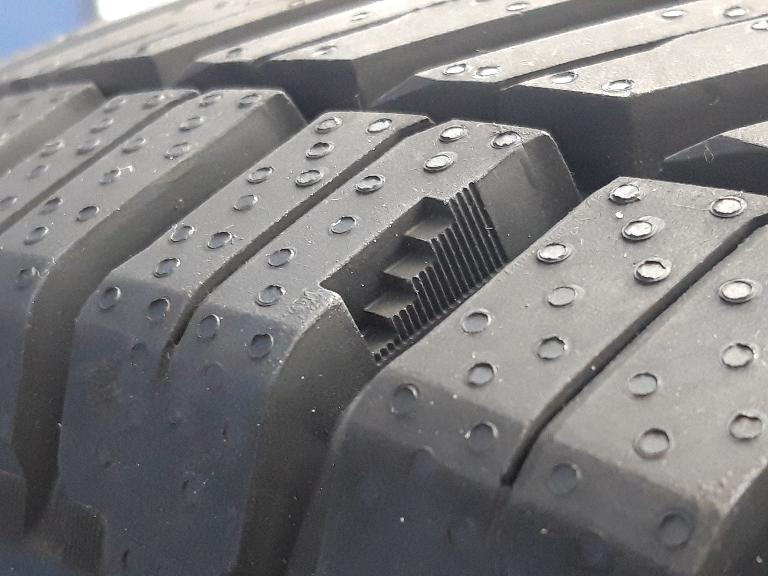temoin:100: (312, 174, 518, 375)
